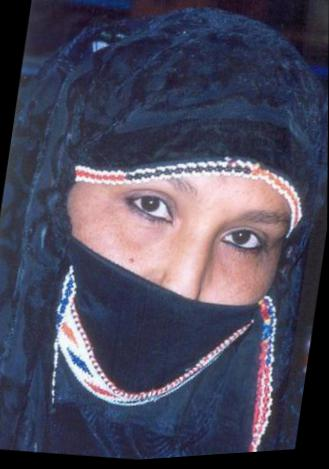WRONG: (49, 138, 298, 398)
